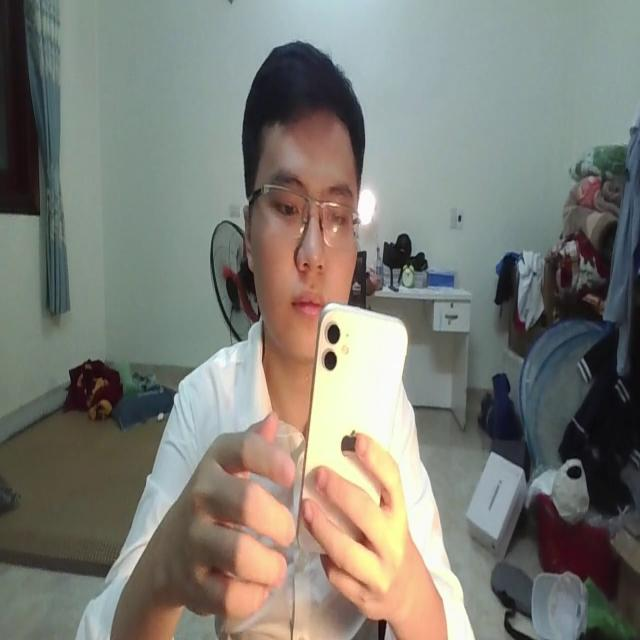phone: (294, 296, 408, 548)
student: (71, 31, 482, 640)
